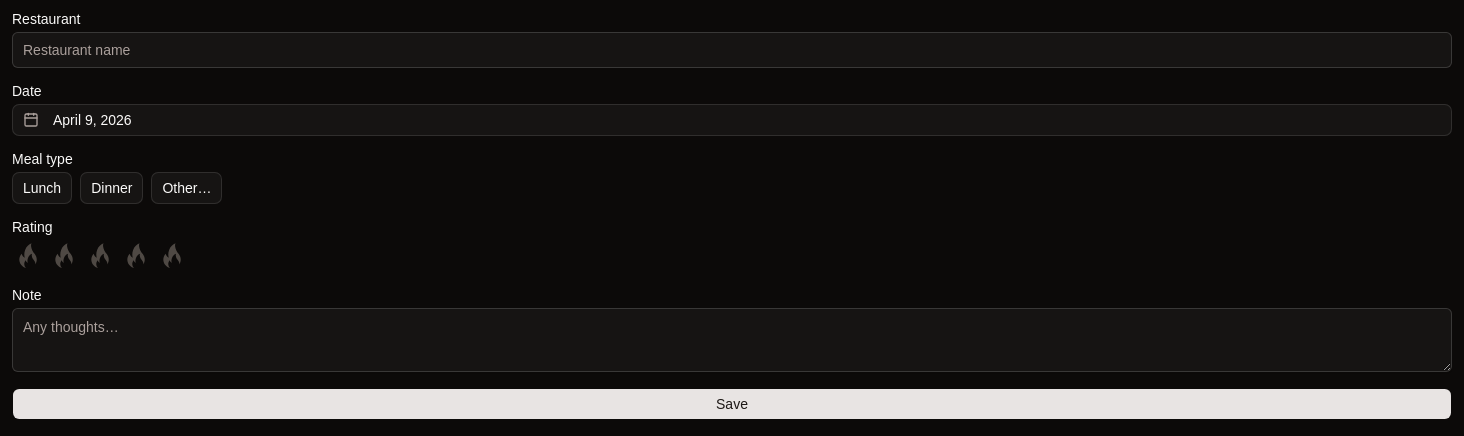
Test: VisitForm › fills the restaurant name when a suggestion is selected
The image size is (1464, 436).
Type "Trat" into the field labelled "Restaurant".
click(732, 50); type("Trat")  # box left=12, top=32, right=1452, bottom=68
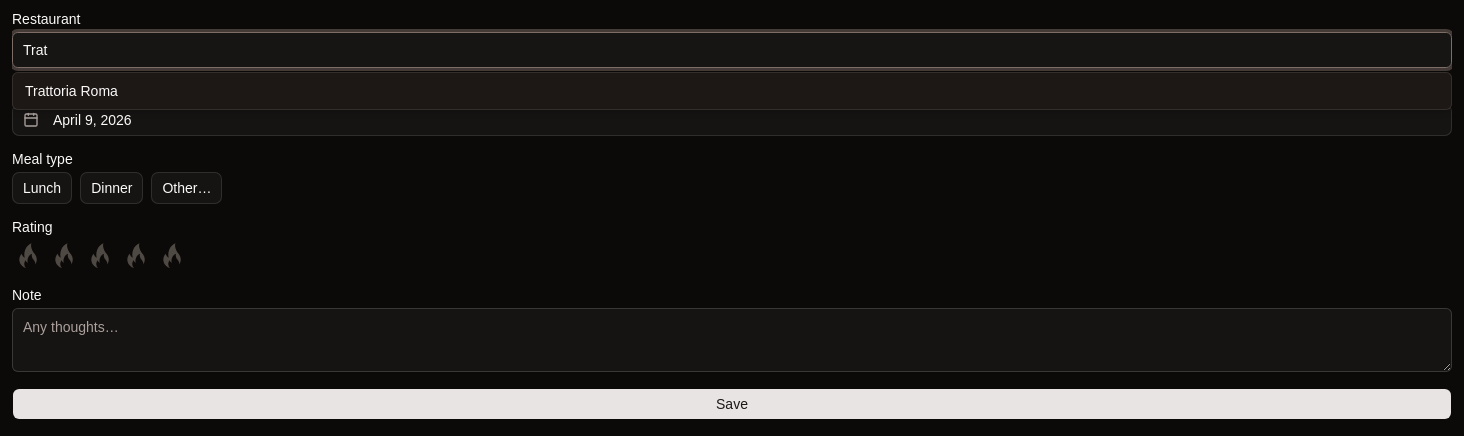
Click the button "Trattoria Roma".
click(71, 91)  # box left=13, top=73, right=1451, bottom=109
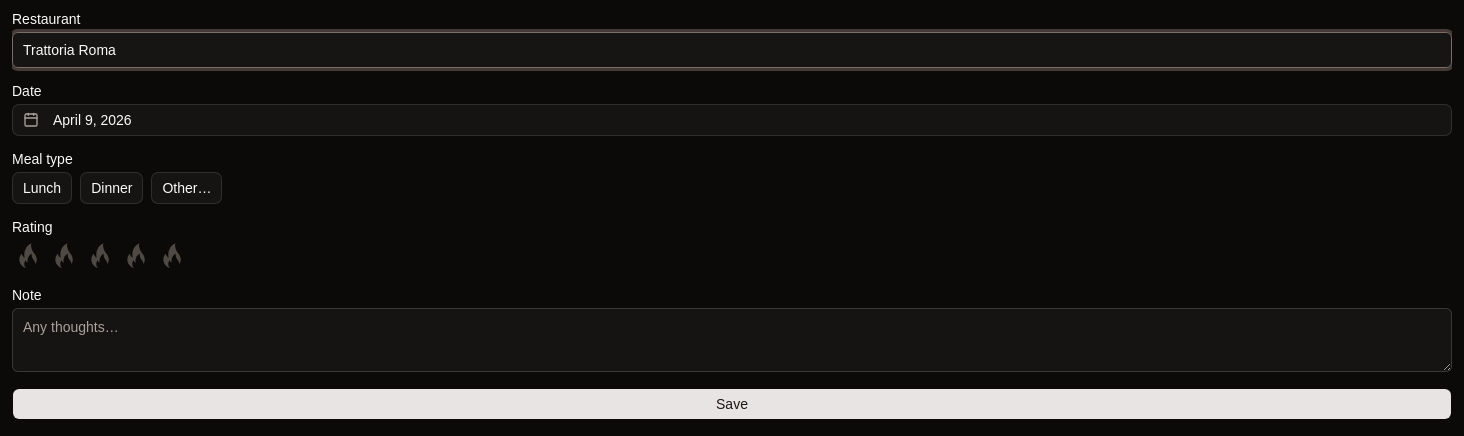
Now the field labelled "Restaurant" holds "Trattoria Roma", box left=12, top=32, right=1452, bottom=68
